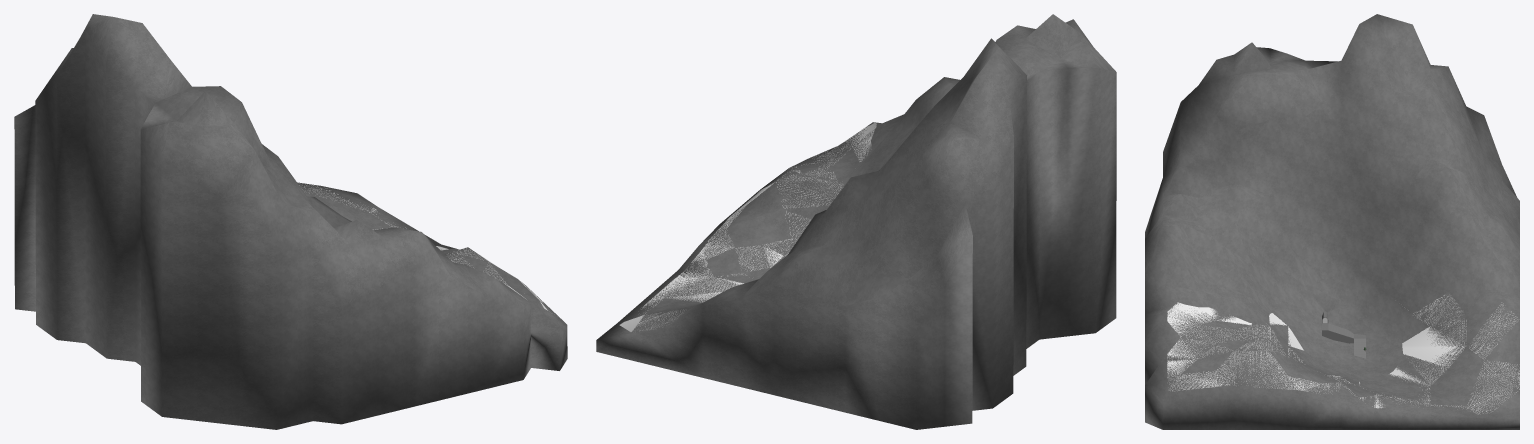
3 renders of one model, left to right at view 1: azimuth 30°, elevation 25°; view 2: azimuth 150°, elevation 25°; view 3: azimuth 270°, elevation 25°, orthographic. The views are drawn at different scales.
Parts seen in each view (by area): view 1: Landscape; view 2: Landscape, TreeMesh; view 3: Landscape, TreeMesh, Cube.002.
Part boxes in pixels (<box>): Landscape: <box>14,14,567,429</box>; Landscape: <box>596,14,1116,429</box>; TreeMesh: <box>619,122,876,331</box>; Landscape: <box>1145,14,1519,429</box>; TreeMesh: <box>1167,295,1519,414</box>; Cube.002: <box>1322,311,1365,358</box>.
Bounding box in the file's own units: 324 × 281 × 340.
4 materials, 3 textured.
